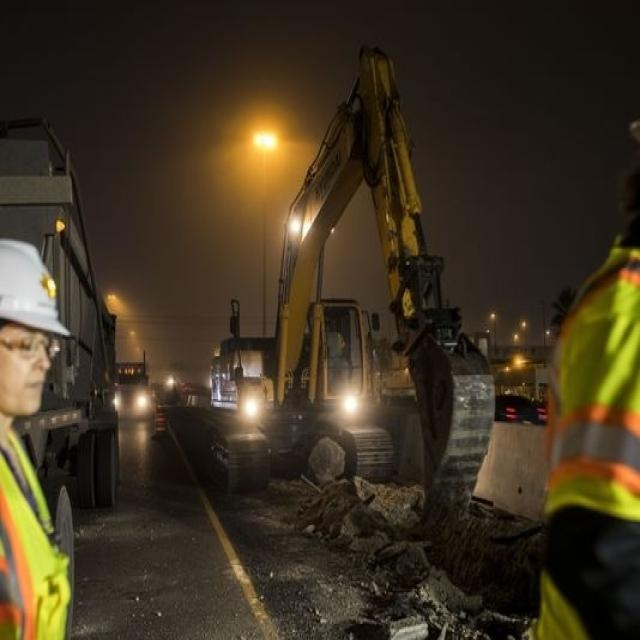Con_Casco: (0, 237, 69, 412)
Con_Chaleco: (545, 244, 640, 640), (0, 426, 79, 640)
